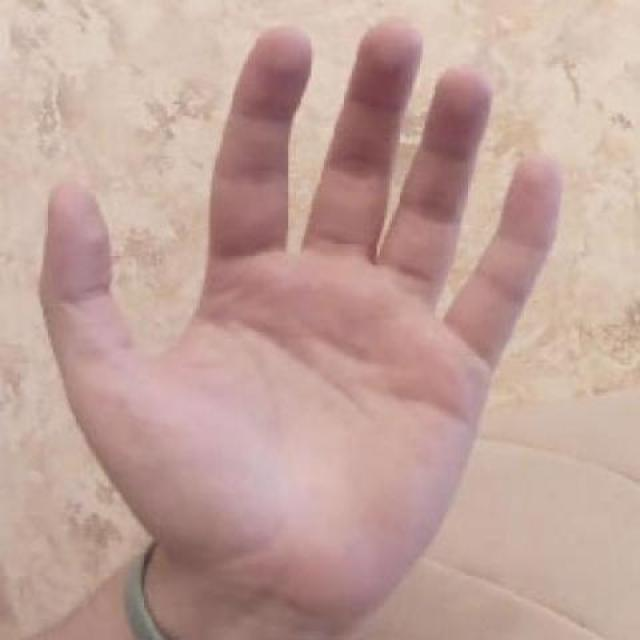Open Hand: (37, 10, 565, 640)
